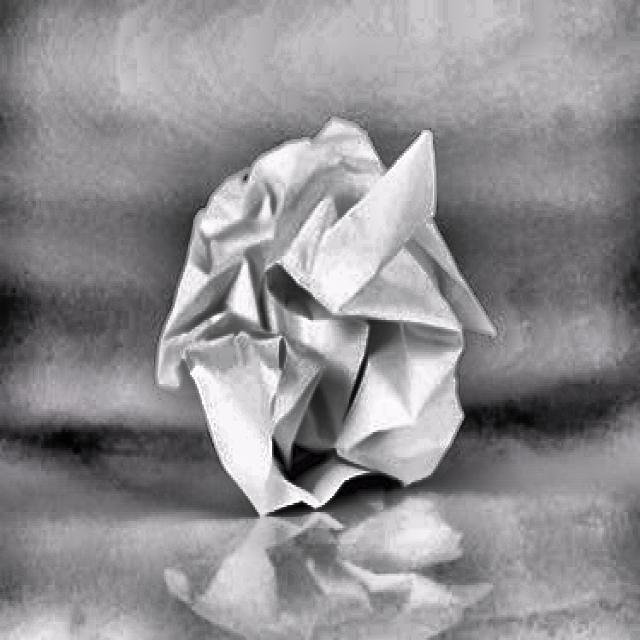Paper: (149, 106, 511, 540)
